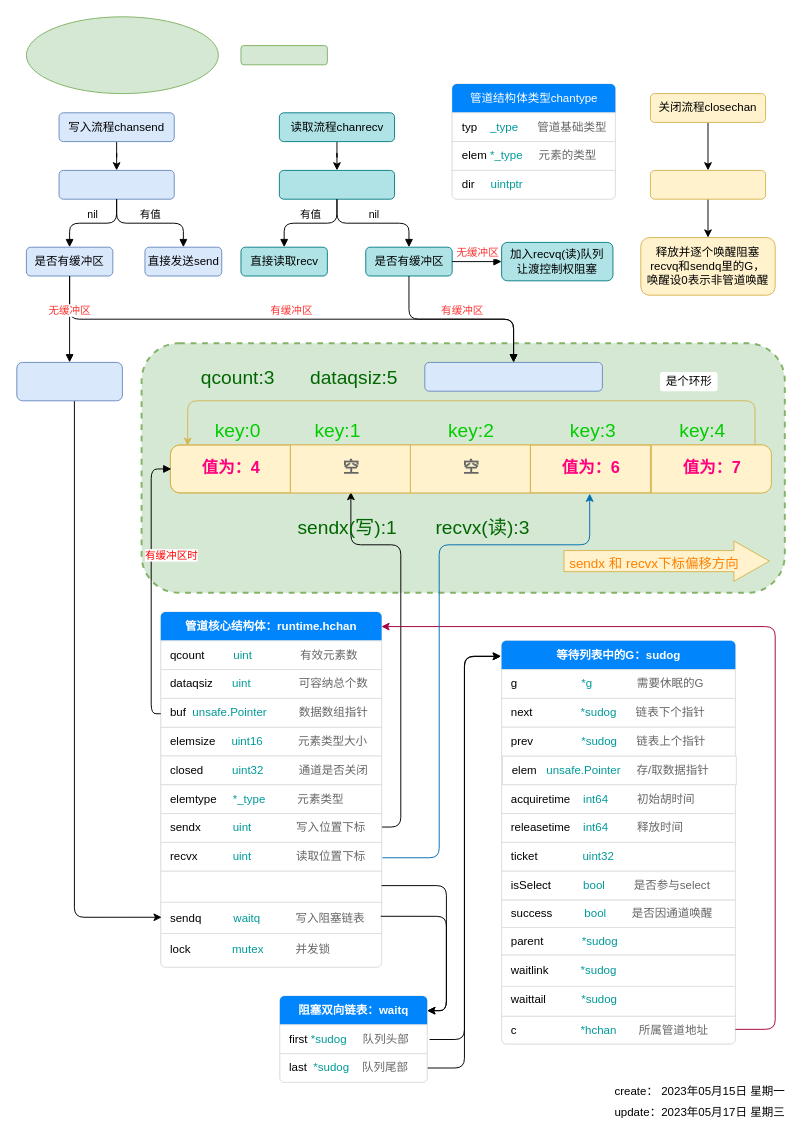
This 812x1139 diagram has some shape labels left out. Here are the shapes that lost their labels. From the top down, the centre of each, then its label:
[121,55]: Golang Channel 原理
[283,55]: Golang1.16.14
[116,184]: recvq队列取出一个
[336,184]: sendq队列取出一个
[707,184]: closed标记为1
[69,381]: 加入 sendq( 写)队列 让渡控制权阻塞
[513,376]: 有缓冲区的读取和写入
[271,886]: recvq waitq 读取阻塞链表
